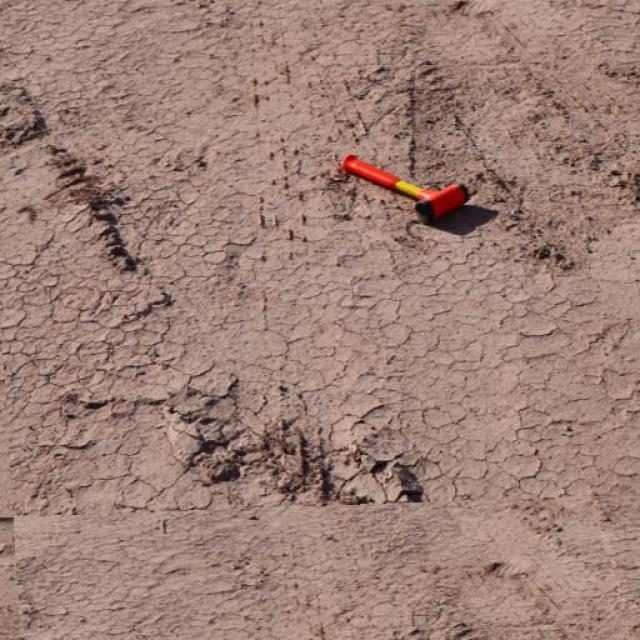mallet: (339, 151, 469, 225)
